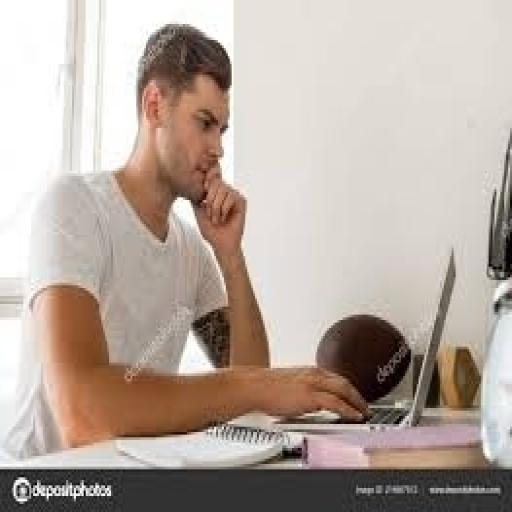using_laptop: (268, 242, 458, 434)
